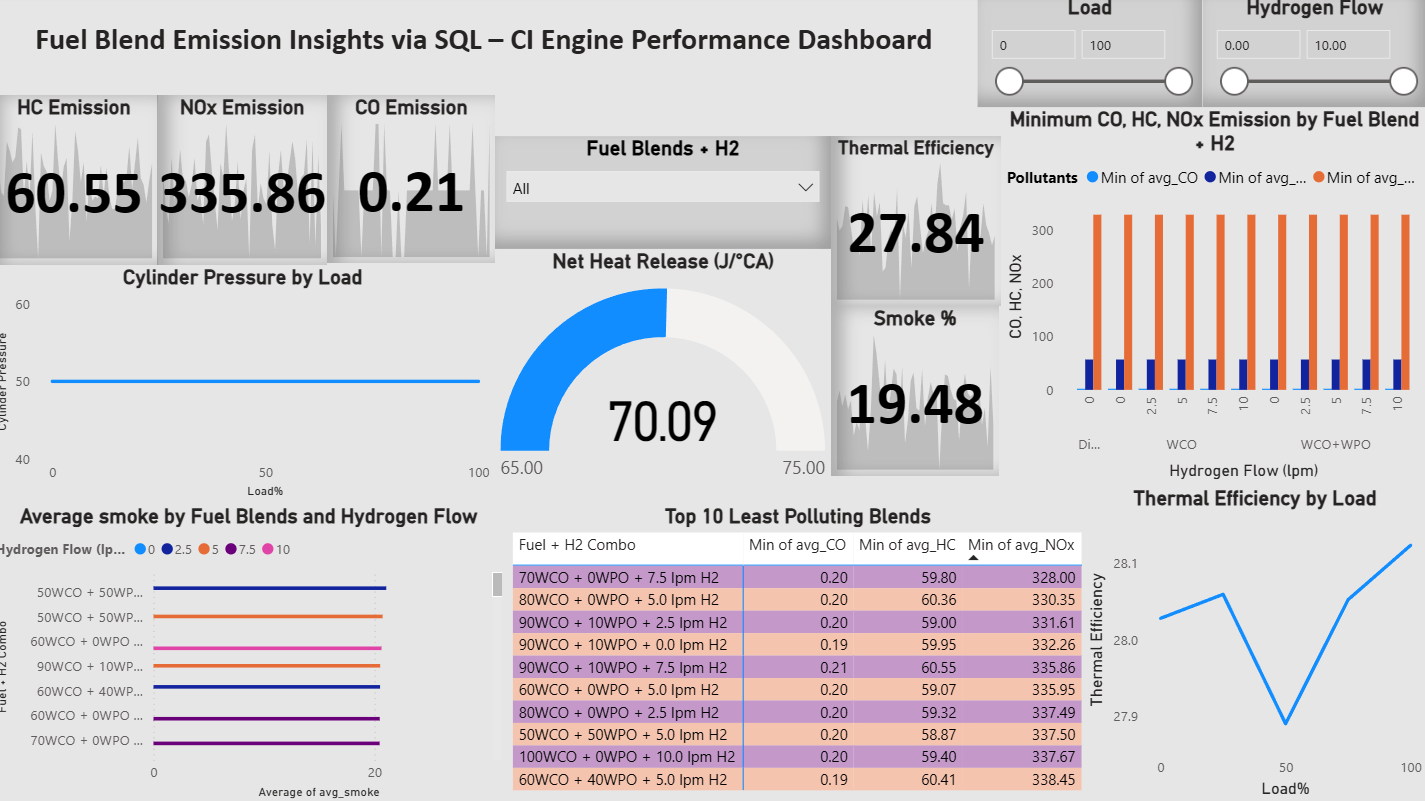

This screenshot's page, from the dashboard's own definition file:
{"tool":"powerbi","page":{"name":"SQL","canvas":[1280,720],"ordinal":1},"visuals":[{"type":"kpi","title":"CO Emission","fields":{"Indicator":["Min(fuel_analysis blend_summary.avg_CO)"],"TrendLine":["fuel_analysis blend_summary.Fuel + H2 Combo"]},"box":[300.5,89.2,149.6,149.6],"z":0},{"type":"kpi","title":"NOx Emission","fields":{"Indicator":["Min(fuel_analysis blend_summary.avg_NOx)"],"TrendLine":["fuel_analysis blend_summary.Fuel + H2 Combo"]},"box":[149.6,89.2,150.9,150.9],"z":1000},{"type":"kpi","title":"HC Emission","fields":{"Indicator":["Min(fuel_analysis blend_summary.avg_HC)"],"TrendLine":["fuel_analysis blend_summary.Fuel + H2 Combo"]},"box":[0,89.2,149.6,150.9],"z":2000},{"type":"kpi","title":"Thermal Efficiency","fields":{"Indicator":["Min(fuel_analysis blend_summary.avg_eff)"],"TrendLine":["fuel_analysis blend_summary.Fuel + H2 Combo"]},"box":[749.2,126.2,150.9,150.9],"z":3000},{"type":"kpi","title":"Smoke %","fields":{"Indicator":["Min(fuel_analysis blend_summary.avg_smoke)"],"TrendLine":["fuel_analysis blend_summary.Fuel + H2 Combo"]},"box":[749.2,277.2,149.6,150.9],"z":4000},{"type":"clusteredColumnChart","title":"Minimum CO, HC, NOx Emission by Fuel Blend + H2","fields":{"Category":["fuel_analysis alternate_fuel_analysis.Fuel Type","fuel_analysis alternate_fuel_analysis.Hydrogen Flow (lpm)"],"Y":["Min(fuel_analysis blend_summary.avg_CO)","Min(fuel_analysis blend_summary.avg_HC)","Min(fuel_analysis blend_summary.avg_NOx)"]},"box":[900.2,100.2,380.1,336.2],"z":5000},{"type":"lineChart","title":"Thermal Efficiency by Load","fields":{"Category":["fuel_analysis alternate_fuel_analysis.Load%"],"Y":["Avg(fuel_analysis alternate_fuel_analysis.Thermal Efficiency (%))"]},"box":[972.9,437.7,307.4,282.7],"z":6000},{"type":"clusteredBarChart","title":"Average smoke by Fuel Blends and Hydrogen Flow","fields":{"Category":["fuel_analysis blend_summary.Fuel + H2 Combo"],"Y":["Avg(fuel_analysis blend_summary.avg_smoke)"],"Series":["fuel_analysis alternate_fuel_analysis.Hydrogen Flow (lpm)"]},"box":[0,452.8,461.1,267.6],"z":7000},{"type":"gauge","title":"Net Heat Release (J/°CA)","fields":{"Y":["Avg(fuel_analysis alternate_fuel_analysis.Net Heat Release Rate (J/°CA))"]},"box":[450.1,226.4,299.1,226.4],"z":8000},{"type":"pivotTable","title":"Top 10 Least Polluting Blends","fields":{"Rows":["fuel_analysis blend_summary.Fuel + H2 Combo"],"Values":["Min(fuel_analysis blend_summary.avg_CO)","Min(fuel_analysis blend_summary.avg_HC)","Min(fuel_analysis blend_summary.avg_NOx)"]},"box":[461.1,452.8,517.3,267.6],"z":9000},{"type":"slicer","title":"Fuel Blends  + H2","fields":{"Values":["fuel_analysis blend_summary.Fuel + H2 Combo"]},"box":[450.1,126.2,299.1,100.2],"z":10000},{"type":"slicer","title":"Hydrogen Flow","fields":{"Values":["fuel_analysis alternate_fuel_analysis.Hydrogen Flow (lpm)"]},"box":[1079.9,0,200.3,100.2],"z":11000},{"type":"slicer","title":"Load","fields":{"Values":["fuel_analysis alternate_fuel_analysis.Load%"]},"box":[879.6,0,200.3,100.2],"z":12000},{"type":"lineChart","title":"Cylinder Pressure by Load","fields":{"Category":["fuel_analysis alternate_fuel_analysis.Load%"],"Y":["Min(fuel_analysis alternate_fuel_analysis.Cylinder Pressure (bar))"]},"box":[0,240.1,450.1,212.7],"z":13000},{"type":"textbox","box":[0,0,879.6,89.2],"z":13001}]}

Visuals, with their boxes in screenshot pixels (x1, y1, x2, y2), scaled from the page's 1280x720 canvas onto the 1425x801 screenshot:
"CO Emission" kpi: [left=335, top=99, right=501, bottom=266]
"NOx Emission" kpi: [left=167, top=99, right=335, bottom=267]
"HC Emission" kpi: [left=0, top=99, right=167, bottom=267]
"Thermal Efficiency" kpi: [left=834, top=140, right=1002, bottom=308]
"Smoke %" kpi: [left=834, top=308, right=1001, bottom=476]
"Minimum CO, HC, NOx Emission by Fuel Blend + H2" clusteredColumnChart: [left=1002, top=111, right=1424, bottom=485]
"Thermal Efficiency by Load" lineChart: [left=1083, top=487, right=1424, bottom=800]
"Average smoke by Fuel Blends and Hydrogen Flow" clusteredBarChart: [left=0, top=504, right=513, bottom=800]
"Net Heat Release (J/°CA)" gauge: [left=501, top=252, right=834, bottom=504]
"Top 10 Least Polluting Blends" pivotTable: [left=513, top=504, right=1089, bottom=800]
"Fuel Blends  + H2" slicer: [left=501, top=140, right=834, bottom=252]
"Hydrogen Flow" slicer: [left=1202, top=0, right=1424, bottom=111]
"Load" slicer: [left=979, top=0, right=1202, bottom=111]
"Cylinder Pressure by Load" lineChart: [left=0, top=267, right=501, bottom=504]
textbox: [left=0, top=0, right=979, bottom=99]
